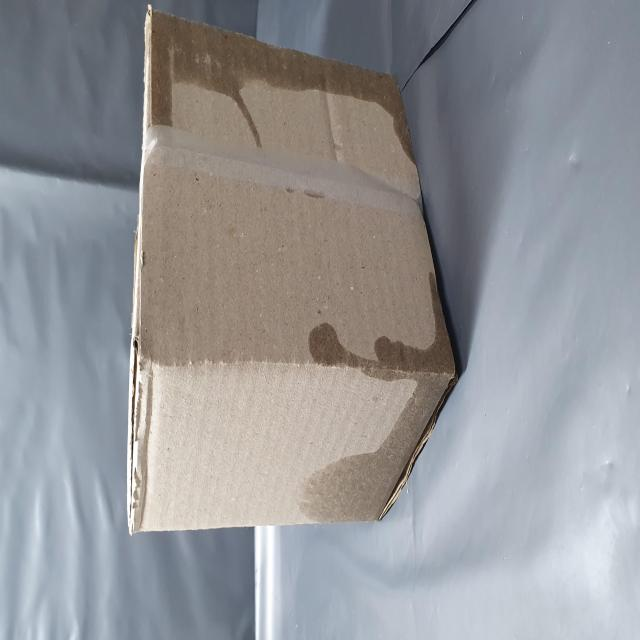wet: (271, 251, 354, 640), (57, 527, 177, 640)
